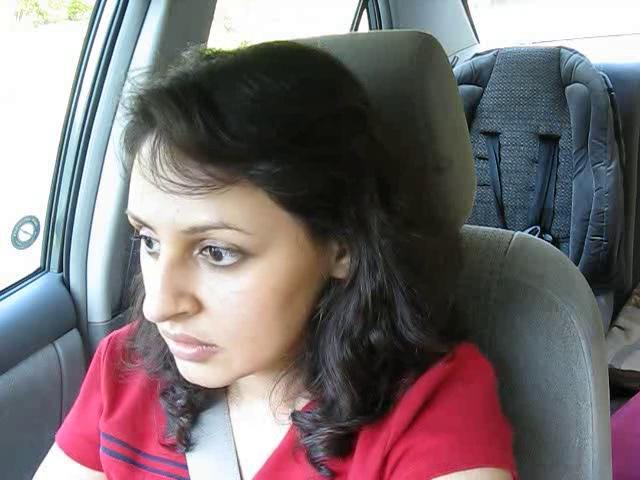no_yawn: (153, 325, 231, 367)
open_eyeL: (121, 219, 164, 267)
open_eyeR: (179, 230, 257, 277)
